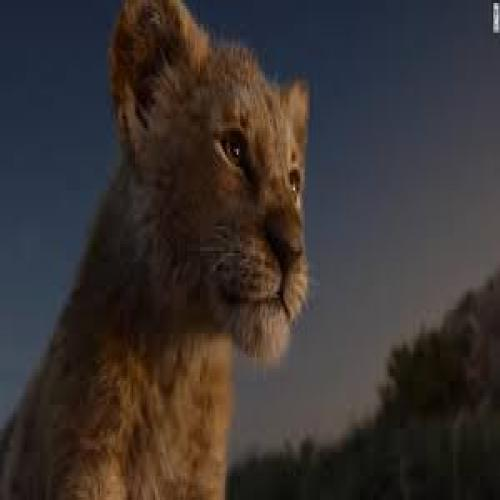lion-endangered: (3, 2, 310, 500)
